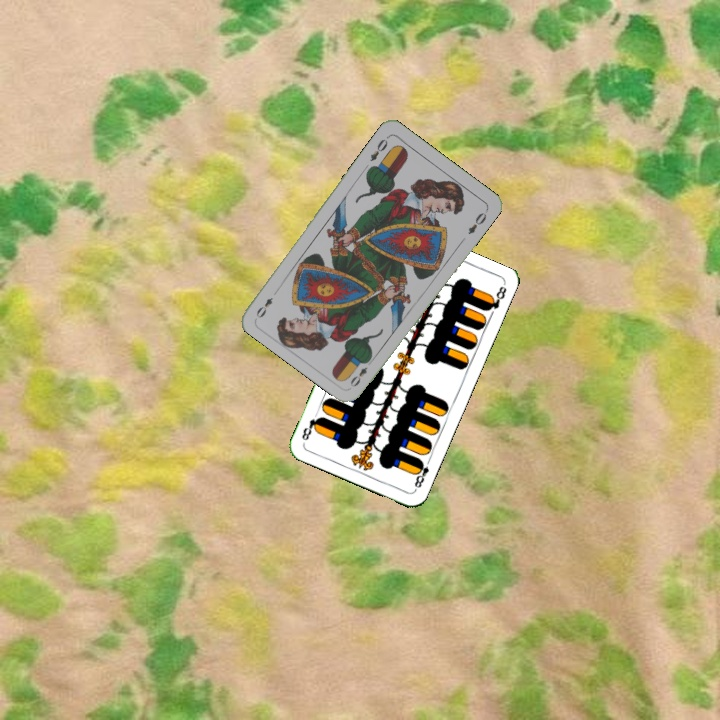E8: (410, 455, 433, 493)
EO: (346, 355, 375, 390), (366, 135, 391, 164)
